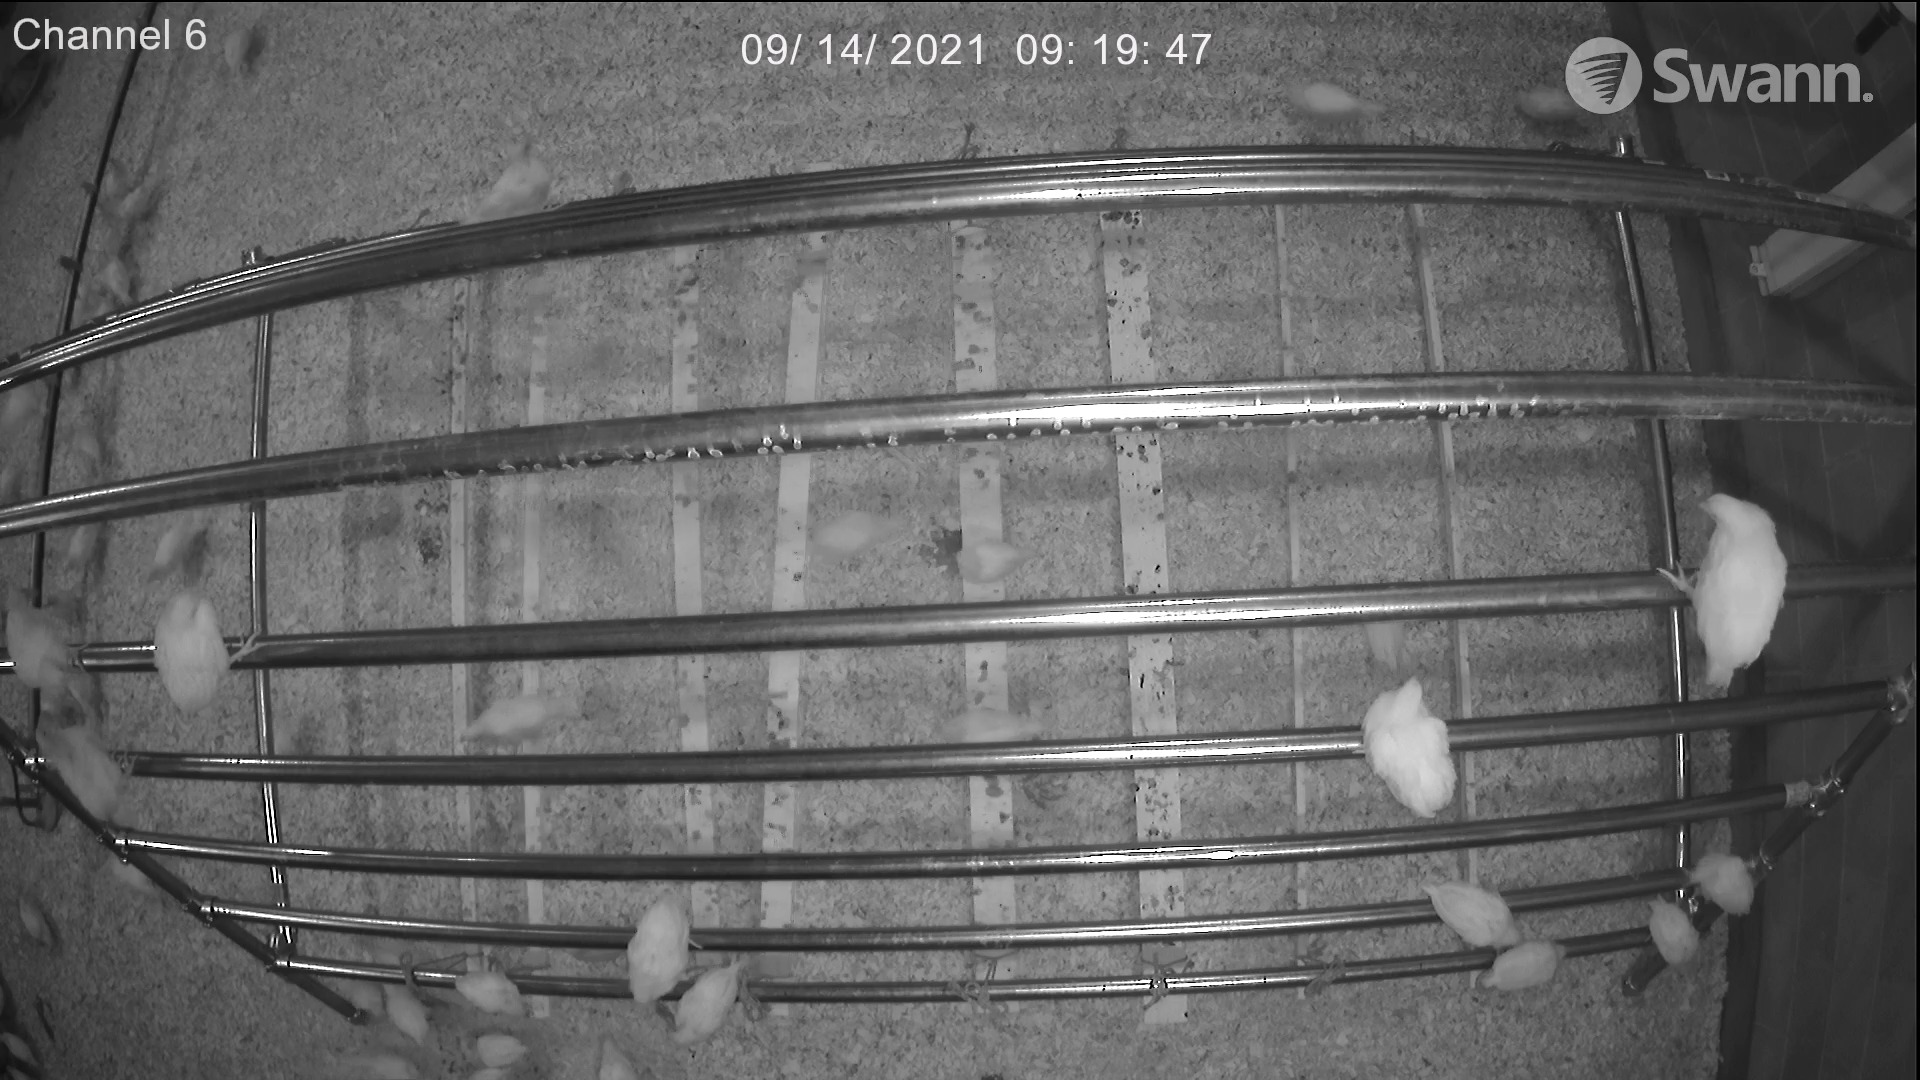Perching: (1658, 475, 1818, 694), (611, 880, 757, 1055), (1342, 665, 1468, 822), (1412, 876, 1568, 1000), (1639, 841, 1772, 969), (138, 591, 268, 713), (899, 692, 1056, 752), (451, 694, 583, 752), (438, 959, 546, 1025), (953, 522, 1027, 593)
